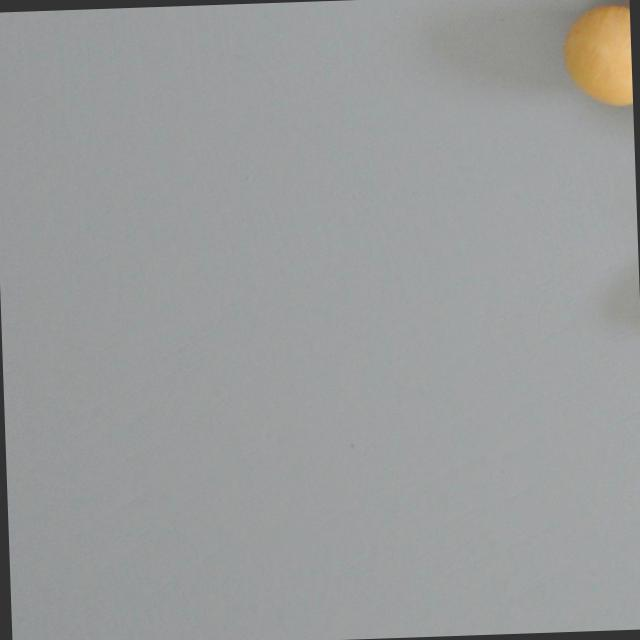cuerpos_extranos: (555, 4, 633, 111)
